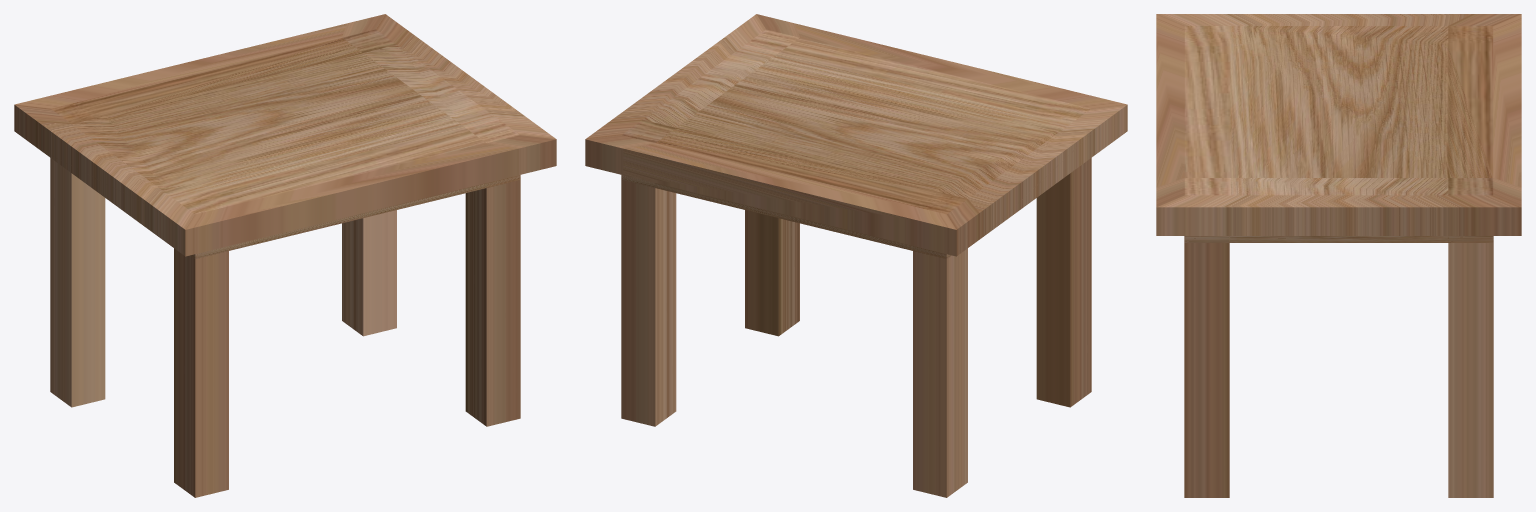
File: chair.obj
3 views of the same model, side by side, from view 1: azimuth 30°, elevation 25°; view 2: azimuth 150°, elevation 25°; view 3: azimuth 270°, elevation 25° (orthographic). The views are drawn at different scales.
Visible parts, largest first — view 1: chair; view 2: chair; view 3: chair.
Boxes of the visible parts, bbox=[...] form: chair: bbox=[14, 14, 556, 497]; chair: bbox=[585, 14, 1127, 497]; chair: bbox=[1156, 14, 1521, 497].
Bounding box in the file's own units: 34.96 × 25.5 × 27.93.
Materials: 1 (1 with a texture image).
